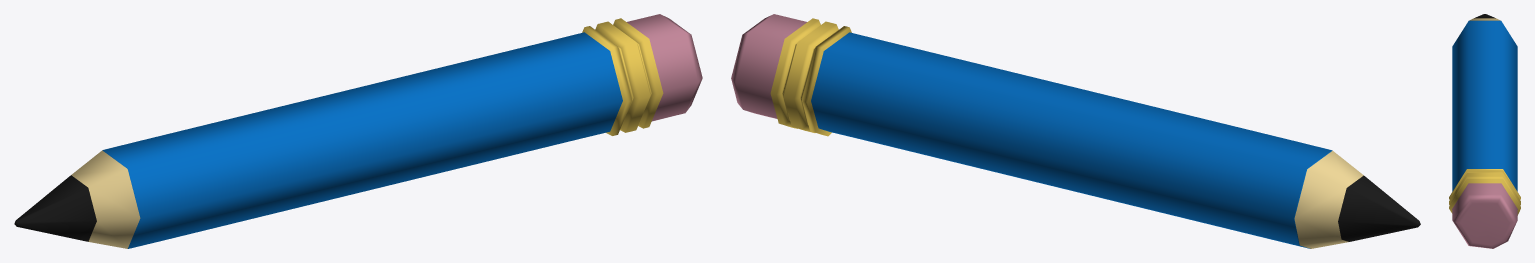
Rendered from Basic_Low_Poly_Pencil (Faces 150)_fbx.fbx.
The picture shows the model from 3 angles, left to right: view 1: azimuth 30°, elevation 25°; view 2: azimuth 150°, elevation 25°; view 3: azimuth 270°, elevation 25°; orthographic projection. The views are drawn at different scales.
Parts seen in each view (by area): view 1: Low_Pily_Pencil__Faces_150_; view 2: Low_Pily_Pencil__Faces_150_; view 3: Low_Pily_Pencil__Faces_150_.
Part boxes in pixels (left/top/right/bottom): Low_Pily_Pencil__Faces_150_: left=14, top=14, right=702, bottom=248; Low_Pily_Pencil__Faces_150_: left=731, top=14, right=1420, bottom=248; Low_Pily_Pencil__Faces_150_: left=1449, top=14, right=1520, bottom=248.
Bounding box in the file's own units: 26.36 × 3.53 × 3.85.
